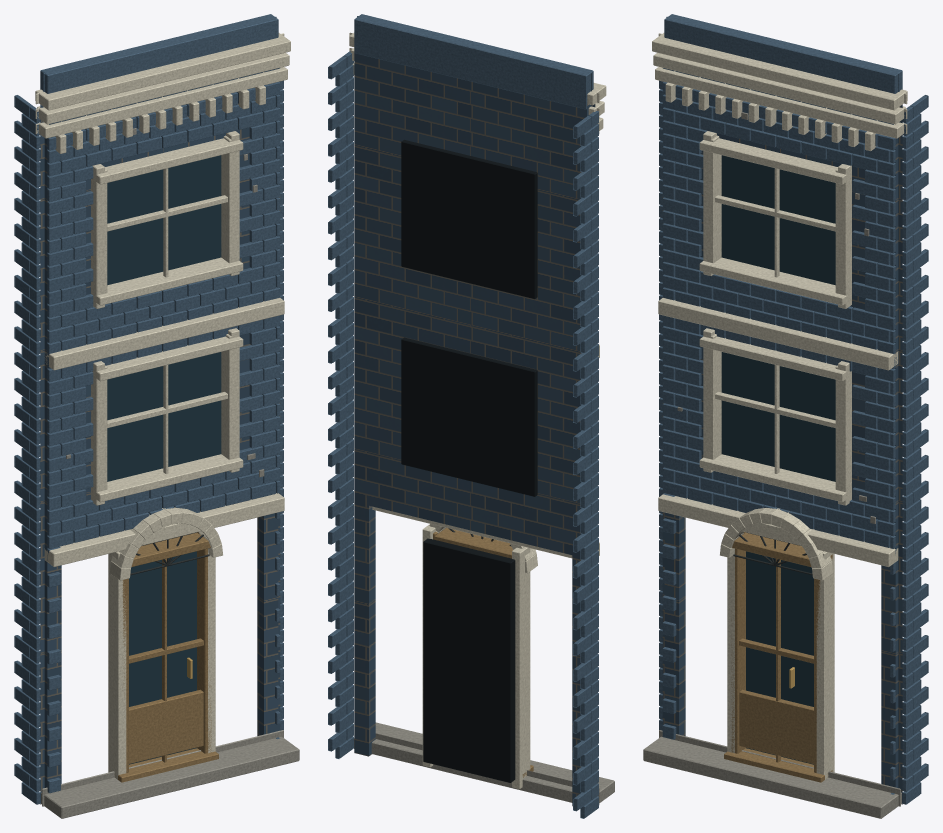
The model's file is OFFC11_lod0.glb.
3 views of the same model, side by side, from view 1: azimuth 30°, elevation 25°; view 2: azimuth 150°, elevation 25°; view 3: azimuth 330°, elevation 25° (orthographic).
Parts seen in each view (by area): view 1: OFFC11_FRONT_LOD0; view 2: OFFC11_FRONT_LOD0; view 3: OFFC11_FRONT_LOD0.
Part boxes in pixels (x1=…): OFFC11_FRONT_LOD0: x1=14, y1=14, x2=299, y2=818; OFFC11_FRONT_LOD0: x1=328, y1=14, x2=614, y2=818; OFFC11_FRONT_LOD0: x1=643, y1=14, x2=928, y2=818.
Bounding box in the file's own units: 3.44 × 9.66 × 1.02.
12 materials, 9 textured.
